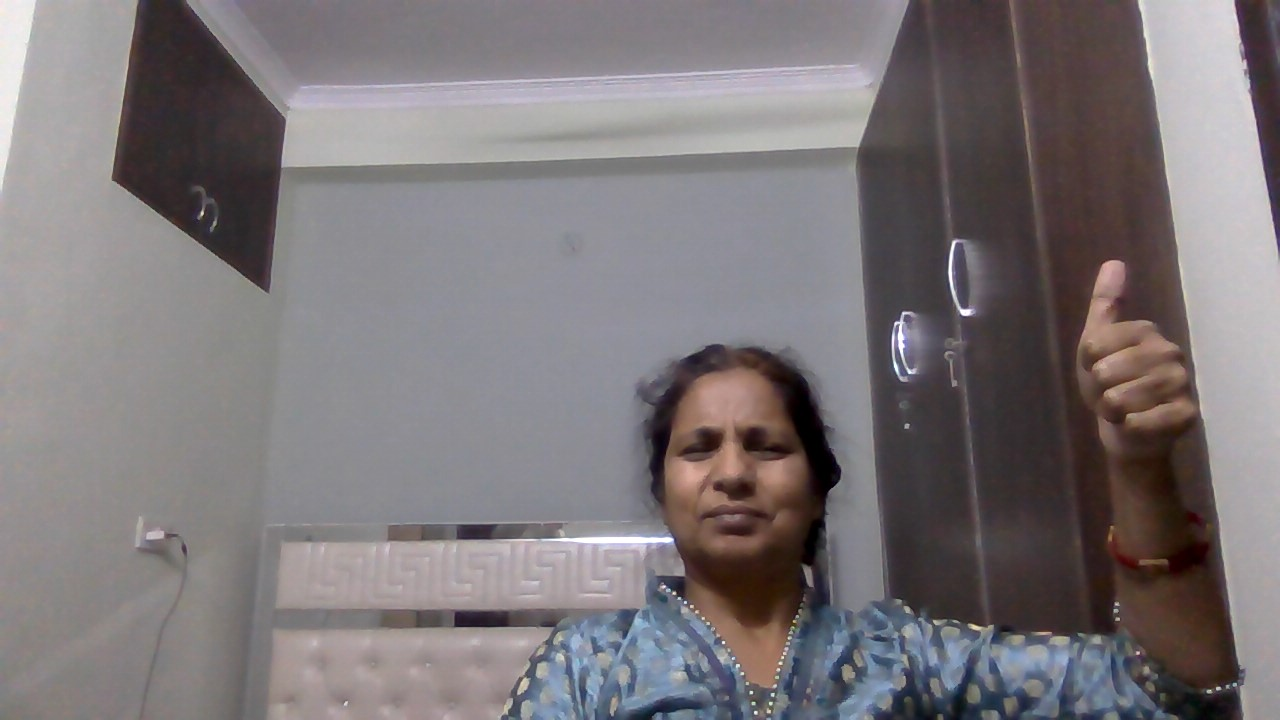Save: (1063, 252, 1229, 477)
